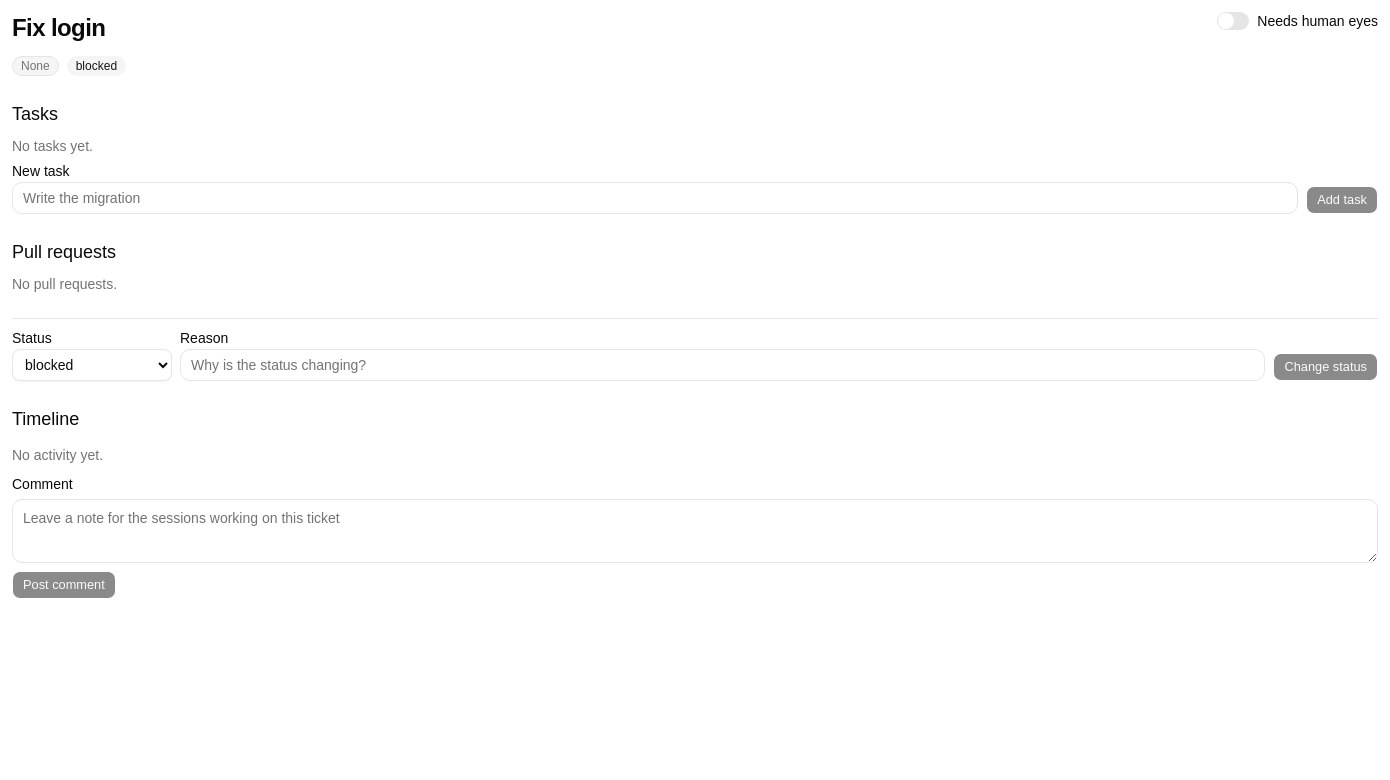
it: TicketDetailPage › human can change status via a select + reason field; request carries {status, reason, actor_session_id:"human"}
Check: the heading "Fix login" is shown, box [12,12,105,44]
Check: the icon "blocked" is shown, box [67,56,126,76]
Select "waiting-on-vendor" in the dropdown labelled "Status". click: (92, 365)
box: [12,349,172,381]
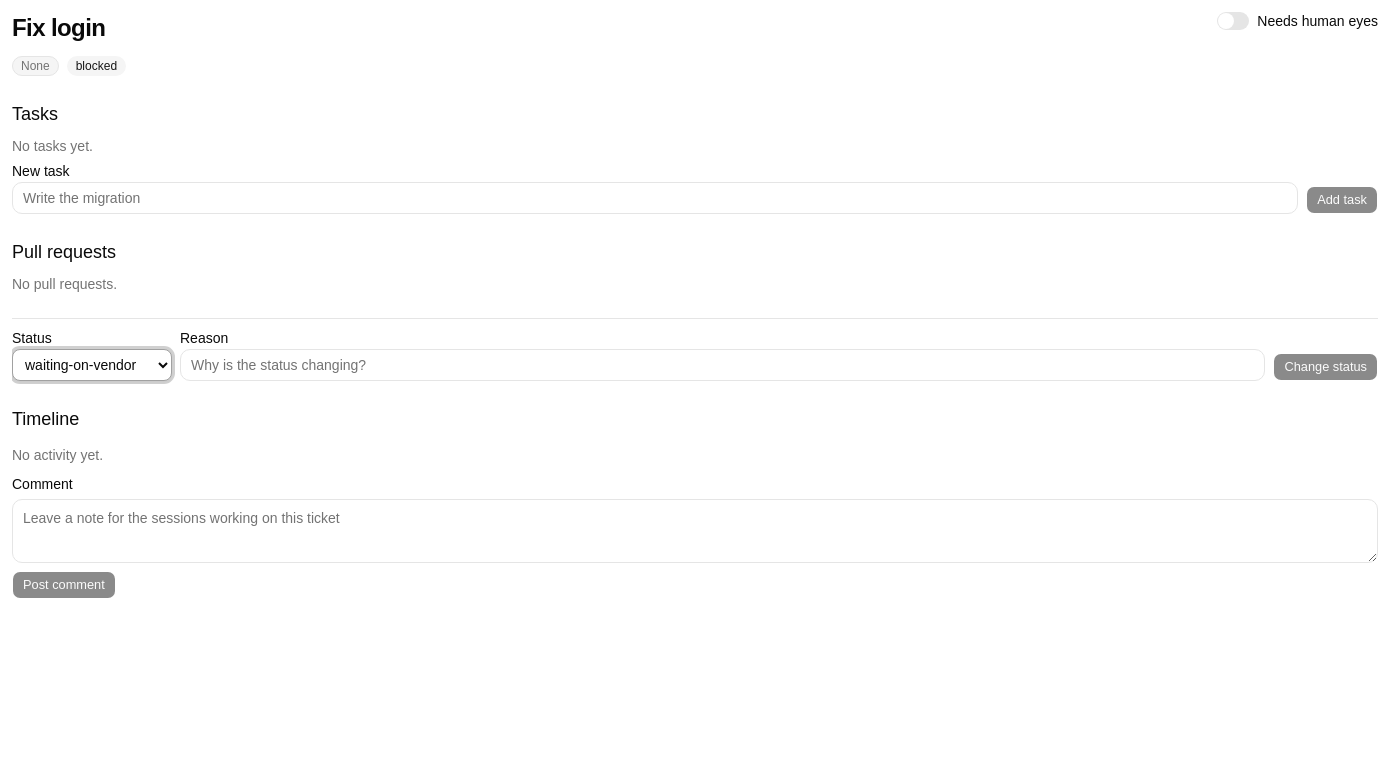
Type "vendor replied" into the field labelled "Reason". click: (723, 365)
box: [180,349,1266,381]
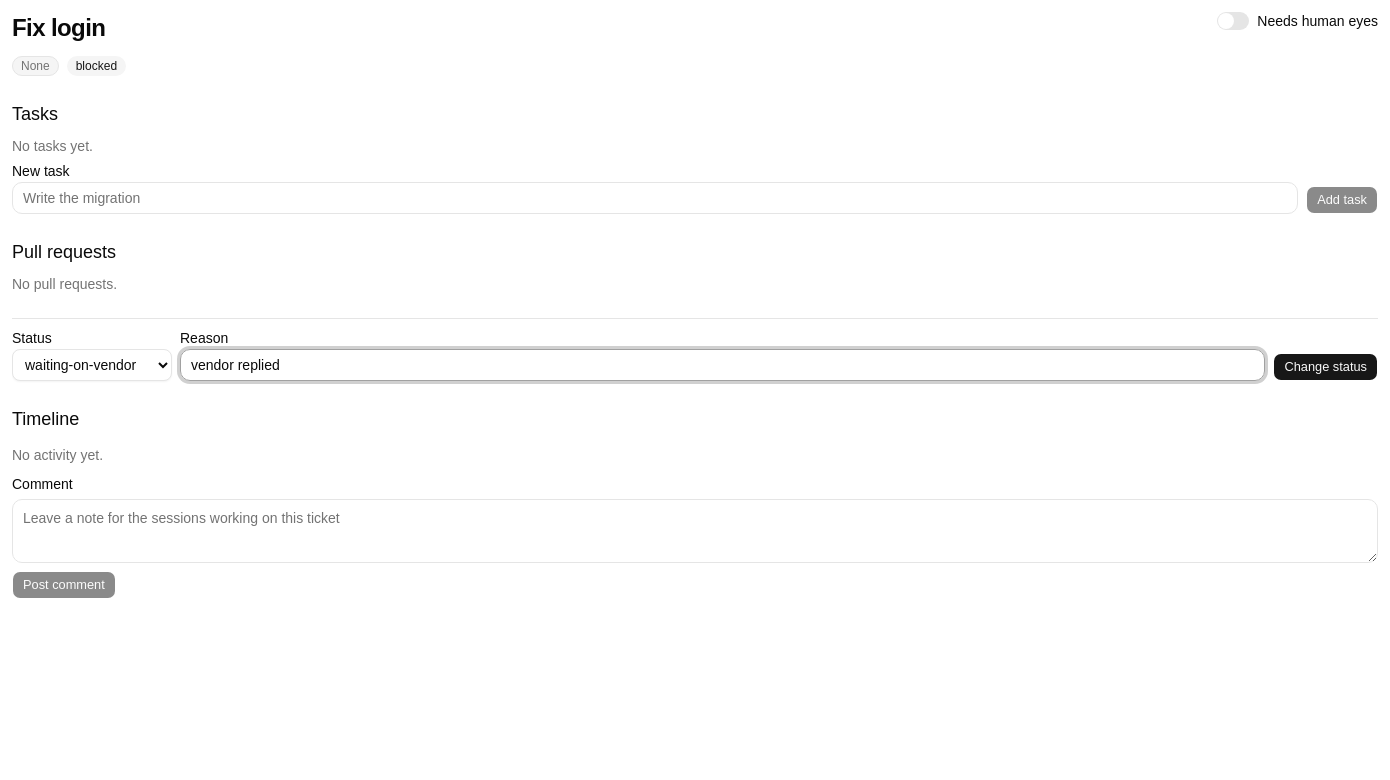
Click the button "Change status". click: (1326, 367)
box: [1274,353,1378,381]
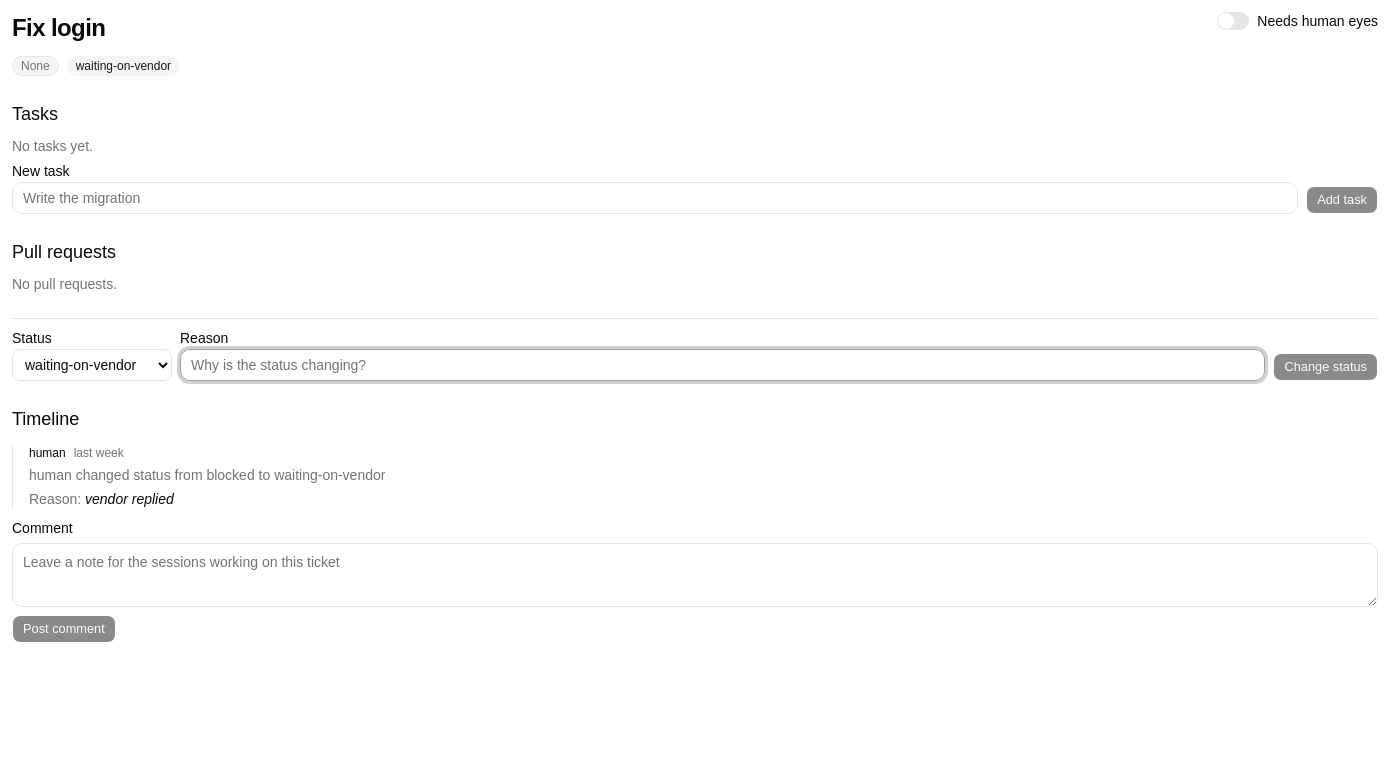
Check: the text "waiting-on-vendor" is shown, box [67,56,180,76]
Check: the list item shows "human changed status from blocked to waiting-on-vendor", box [29,467,385,483]
Check: the text "vendor replied" is shown, box [85,491,174,507]
